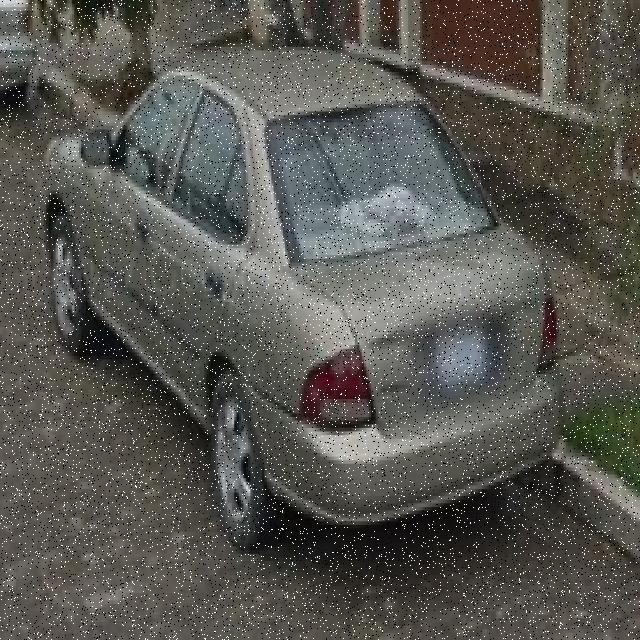cars: (40, 51, 559, 544)
